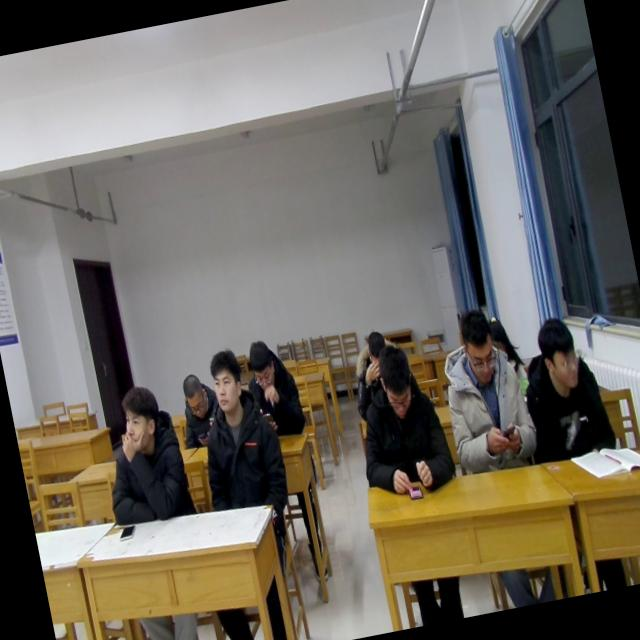down: (450, 299, 501, 390), (372, 341, 420, 424), (240, 328, 280, 394), (178, 369, 212, 425), (360, 325, 390, 376)
lookup: (110, 376, 166, 457), (201, 343, 252, 420)
sit: (182, 340, 294, 518), (342, 338, 460, 504), (431, 299, 541, 477), (512, 312, 620, 468), (90, 376, 196, 529), (238, 334, 310, 444), (342, 328, 398, 422), (172, 370, 226, 450)
